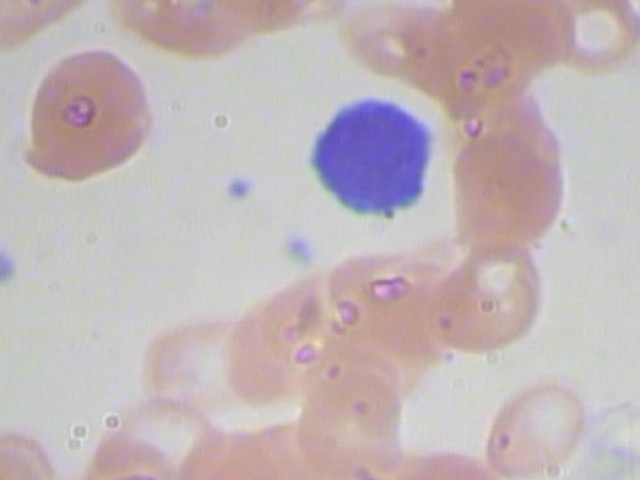Platelets: (280, 229, 323, 264), (218, 172, 260, 207), (0, 246, 15, 287)
RBC: (3, 41, 166, 193), (320, 235, 449, 362), (249, 270, 378, 397), (135, 294, 270, 414), (426, 241, 561, 360), (445, 128, 572, 246), (419, 9, 539, 118), (474, 365, 587, 480), (294, 365, 406, 480), (327, 0, 447, 89), (99, 0, 243, 60), (550, 0, 640, 82), (0, 0, 83, 58), (208, 0, 351, 31), (0, 0, 106, 29)
WBC: (305, 93, 436, 226)
